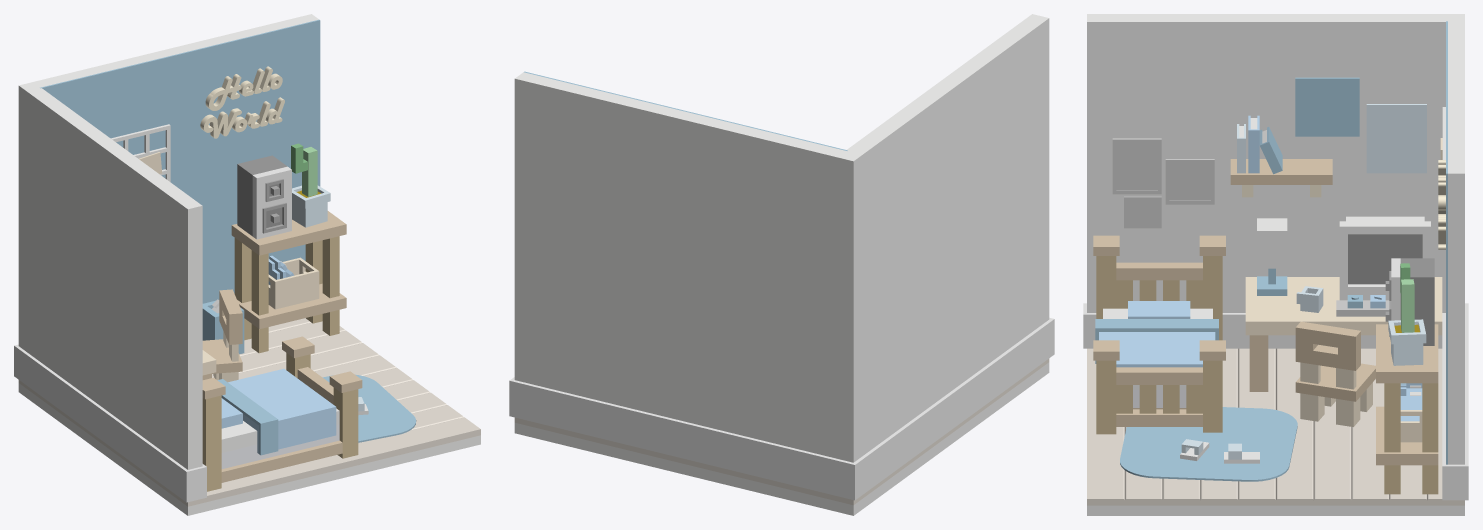
File: room_shoetest.gltf
3 renders of one model, left to right at view 1: azimuth 30°, elevation 25°; view 2: azimuth 150°, elevation 25°; view 3: azimuth 270°, elevation 25°, orthographic. The views are drawn at different scales.
Visible parts, largest first — view 1: wall_main, wall_cover2, wall_bar, floor_wood9, bed_bedding2, floor_main, rug, table_body2, box.001, table_body1, bed_floor.001, bed_up2 (+30 smaller); view 2: wall_main, wall_bar, floor_main, floor_wood4; view 3: wall_cover1, wall_main, rug, desk_top.001, wall_bar, image1, floor_main, image2, floor_wood1, floor_wood9, floor_wood8, bed_bedding2 (+58 smaller).
Boxes of the visible parts, left/top/right/bottom form: wall_main: left=18, top=14, right=318, bottom=469; wall_cover2: left=40, top=19, right=320, bottom=303; wall_bar: left=14, top=344, right=206, bottom=502; floor_wood9: left=171, top=417, right=480, bottom=506; bed_bedding2: left=228, top=368, right=336, bottom=453; floor_main: left=18, top=383, right=480, bottom=515; rug: left=322, top=374, right=416, bottom=442; table_body2: left=231, top=211, right=346, bottom=255; box.001: left=268, top=257, right=319, bottom=309; table_body1: left=237, top=283, right=346, bottom=329; bed_floor.001: left=221, top=440, right=342, bottom=482; bed_up2: left=202, top=395, right=221, bottom=491; wall_main: left=514, top=14, right=1049, bottom=462; wall_bar: left=509, top=317, right=1054, bottom=500; floor_main: left=514, top=362, right=1049, bottom=515; floor_wood4: left=514, top=417, right=873, bottom=505; wall_cover1: left=1087, top=21, right=1445, bottom=312; wall_main: left=1087, top=14, right=1464, bottom=464; rug: left=1120, top=407, right=1297, bottom=481; desk_top.001: left=1245, top=277, right=1442, bottom=335; wall_bar: left=1083, top=303, right=1468, bottom=500; image1: left=1366, top=104, right=1426, bottom=173; floor_main: left=1087, top=505, right=1464, bottom=515; image2: left=1295, top=77, right=1359, bottom=136; floor_wood1: left=1276, top=348, right=1313, bottom=505; floor_wood9: left=1087, top=348, right=1124, bottom=505; floor_wood8: left=1313, top=401, right=1351, bottom=505; bed_bedding2: left=1099, top=332, right=1215, bottom=367.
Size of the model in its own units: 102 by 101 by 102.
